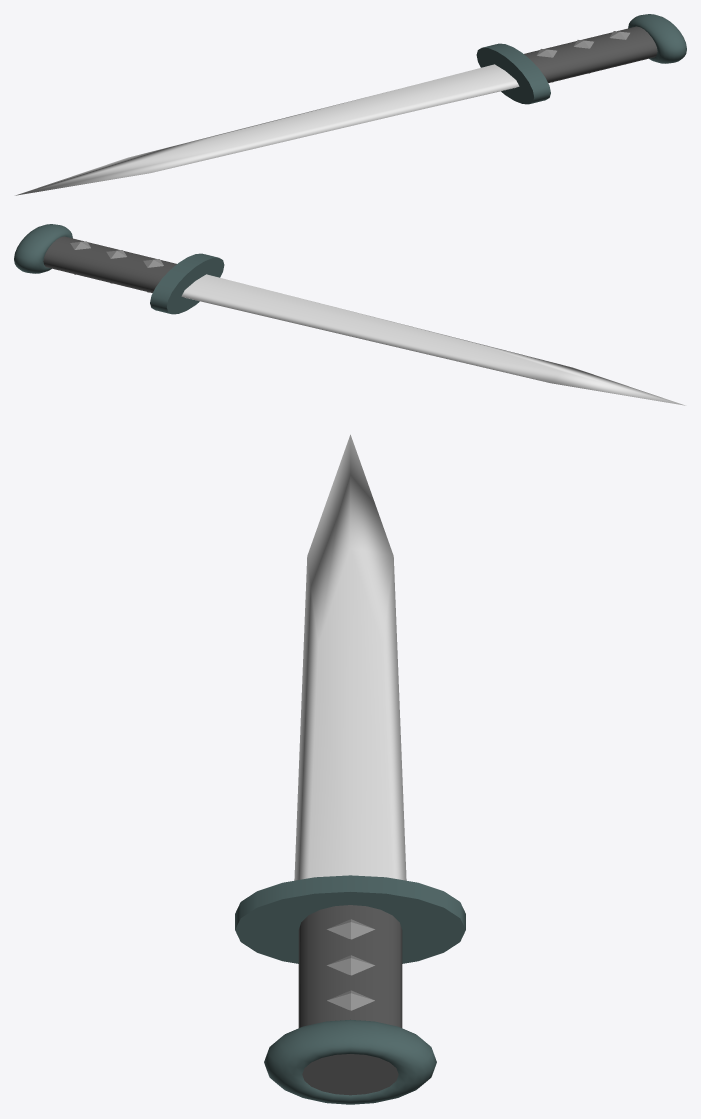
Rendered from Sword-Ver1.fbx.
3 renders of one model, top to bottom at view 1: azimuth 30°, elevation 25°; view 2: azimuth 150°, elevation 25°; view 3: azimuth 270°, elevation 25°, orthographic. The views are drawn at different scales.
Visible parts, largest first — view 1: pCube1, pCylinder2, pCylinder1, pTorus1; view 2: pCube1, pCylinder2, pCylinder1, pTorus1; view 3: pCube1, pCylinder2, pCylinder1, pTorus1.
Part boxes in pixels (x1,y1,x2,y2): pCube1: (15, 64, 519, 195); pCylinder2: (524, 26, 657, 82); pCylinder1: (476, 43, 550, 104); pTorus1: (628, 14, 686, 63); pCube1: (181, 274, 685, 405); pCylinder2: (43, 236, 176, 292); pCylinder1: (150, 253, 224, 314); pTorus1: (14, 224, 72, 273); pCube1: (294, 434, 406, 880); pCylinder2: (298, 905, 402, 1095); pCylinder1: (235, 875, 465, 963); pTorus1: (264, 1019, 436, 1104).
Bounding box in the file's own units: 13.14 × 0.7338 × 2.
